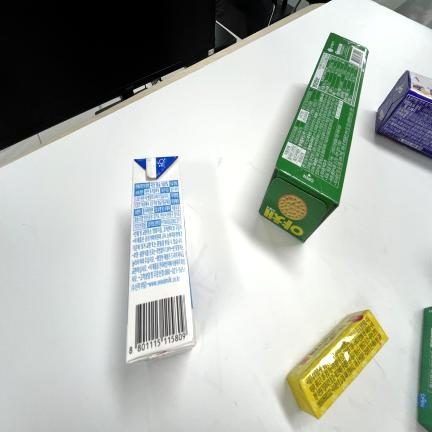cracker_ace: (375, 70, 432, 158)
cracker_vege: (259, 33, 368, 241)
gum_green: (418, 307, 432, 432)
gum_yellow: (287, 310, 388, 418)
milk_blue: (126, 156, 196, 363)
